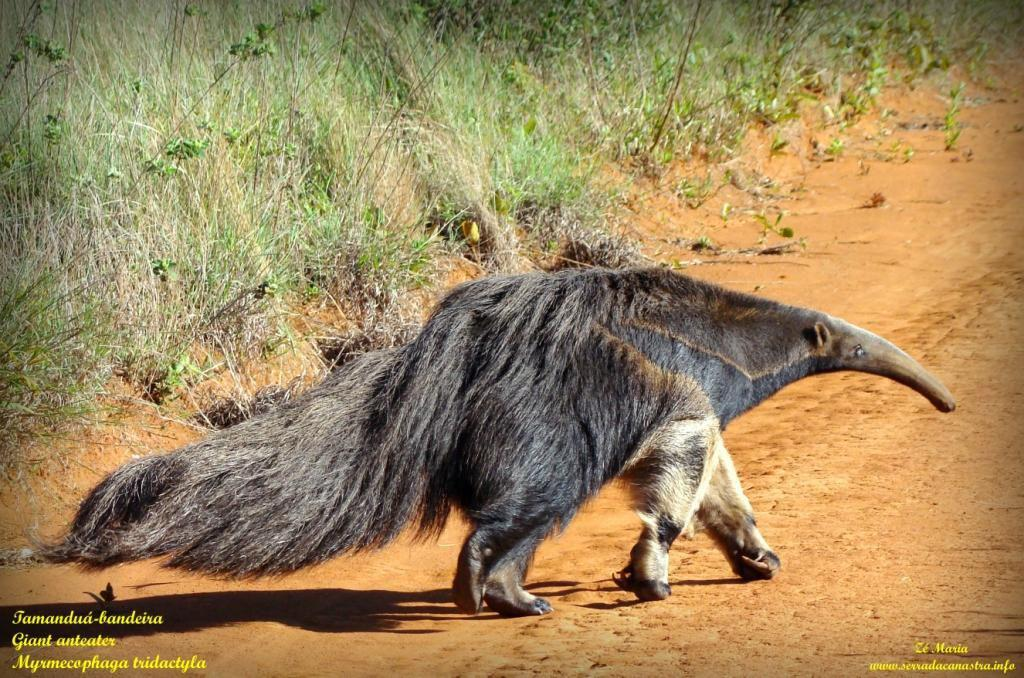TamanduaBandeira: (62, 263, 955, 614)
